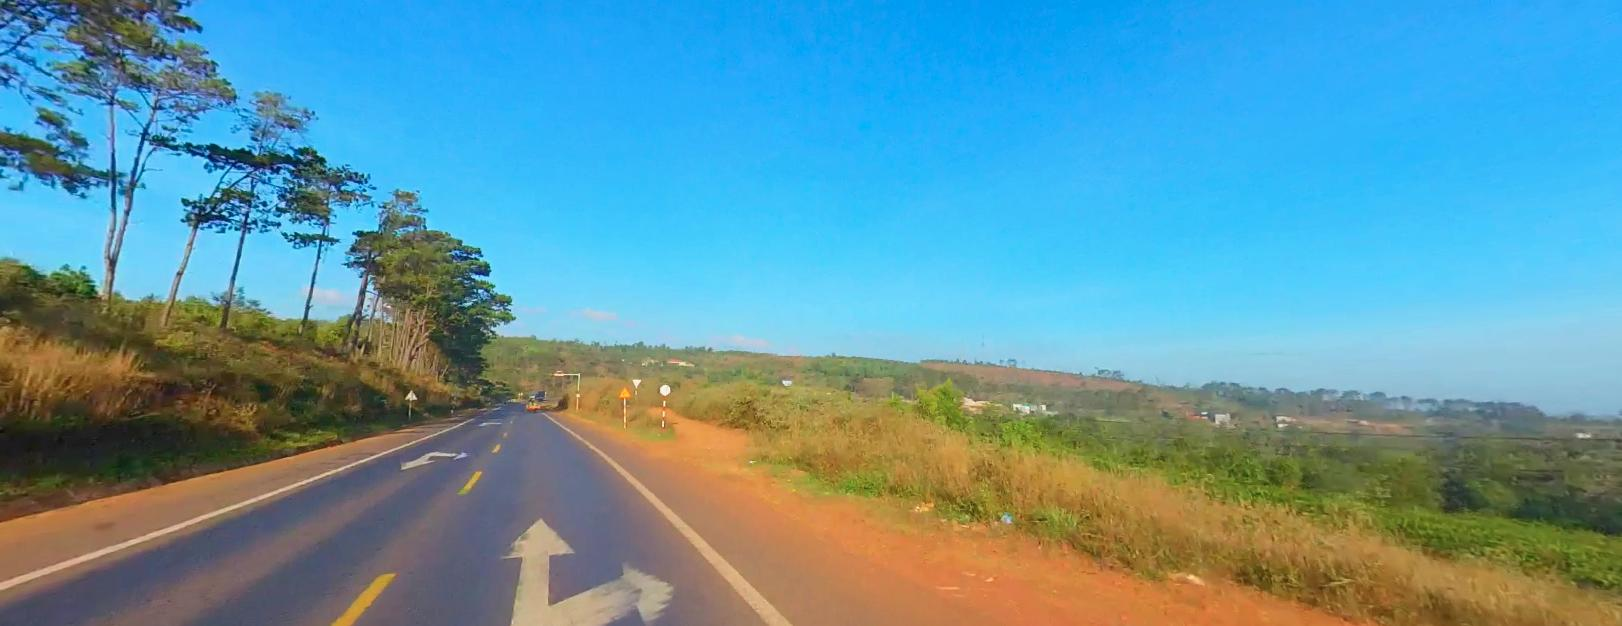Nguy hiem: (618, 384, 631, 396)
